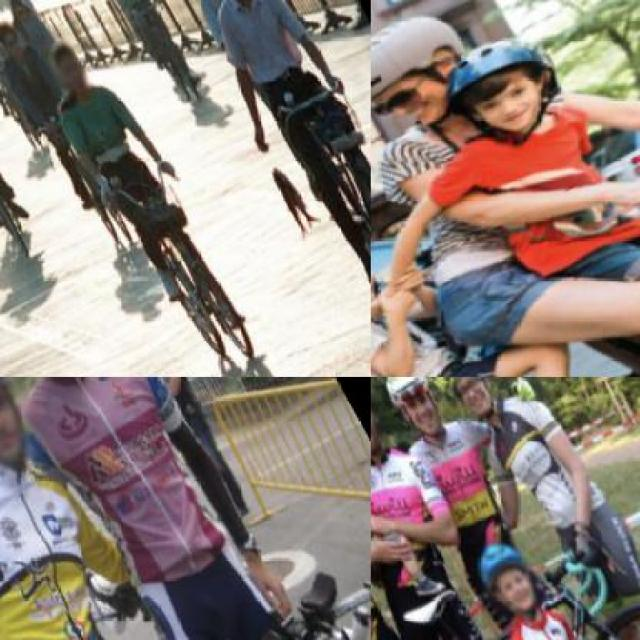With Helmet: (432, 12, 568, 139), (370, 0, 484, 137), (462, 519, 553, 623), (0, 377, 60, 486), (372, 377, 460, 449), (431, 377, 511, 421), (371, 377, 397, 465)
Without Helmet: (38, 30, 96, 99), (0, 10, 32, 61)
